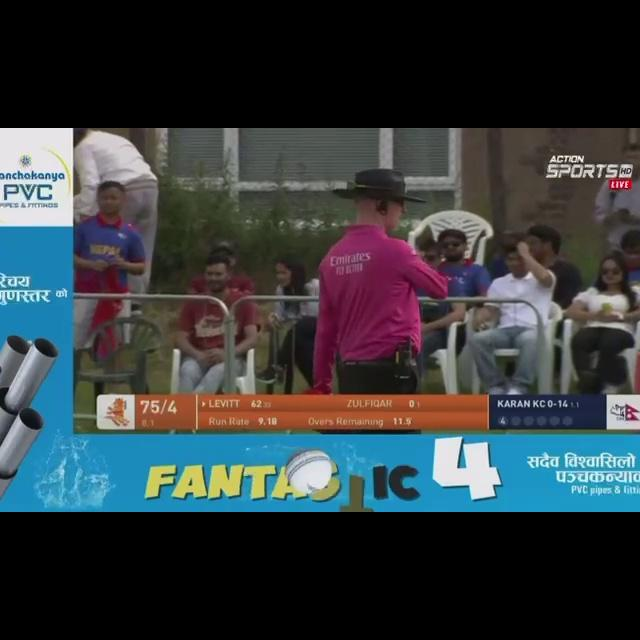umpire: (276, 170, 515, 397)
